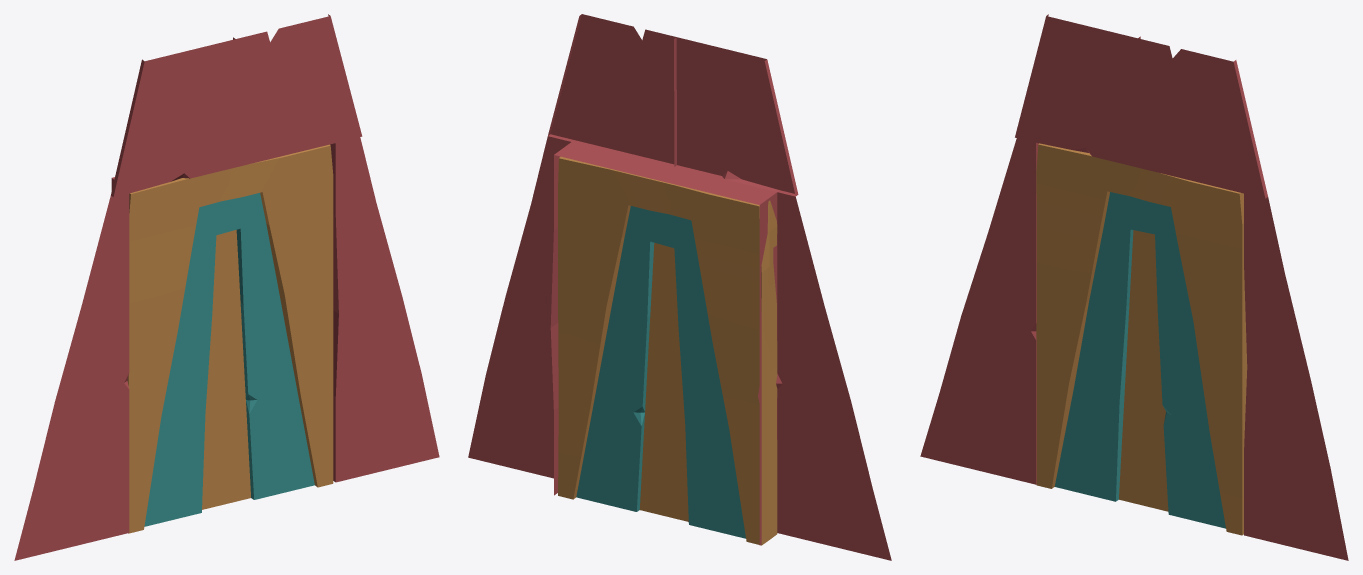
Rendered from singleDoorBase.fbx.
3 renders of one model, left to right at view 1: azimuth 30°, elevation 25°; view 2: azimuth 150°, elevation 25°; view 3: azimuth 330°, elevation 25°, orthographic.
Parts seen in each view (by area): view 1: singleDoorBase, singleDoor; view 2: singleDoorBase, singleDoor; view 3: singleDoorBase, singleDoor.
Boxes of the visible parts, x1=… form: singleDoorBase: x1=14, y1=14, x2=439, y2=560; singleDoor: x1=127, y1=144, x2=333, y2=533; singleDoorBase: x1=468, y1=14, x2=891, y2=560; singleDoor: x1=558, y1=156, x2=777, y2=545; singleDoorBase: x1=920, y1=14, x2=1348, y2=560; singleDoor: x1=1036, y1=143, x2=1247, y2=535.
Size of the model in its own units: 4.96 by 5.26 by 0.4463.
1 material, 1 textured.
